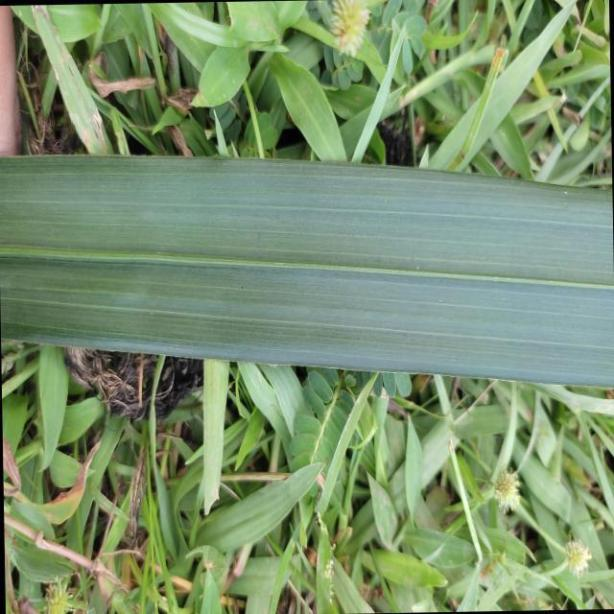Healthy: (0, 147, 614, 392)
